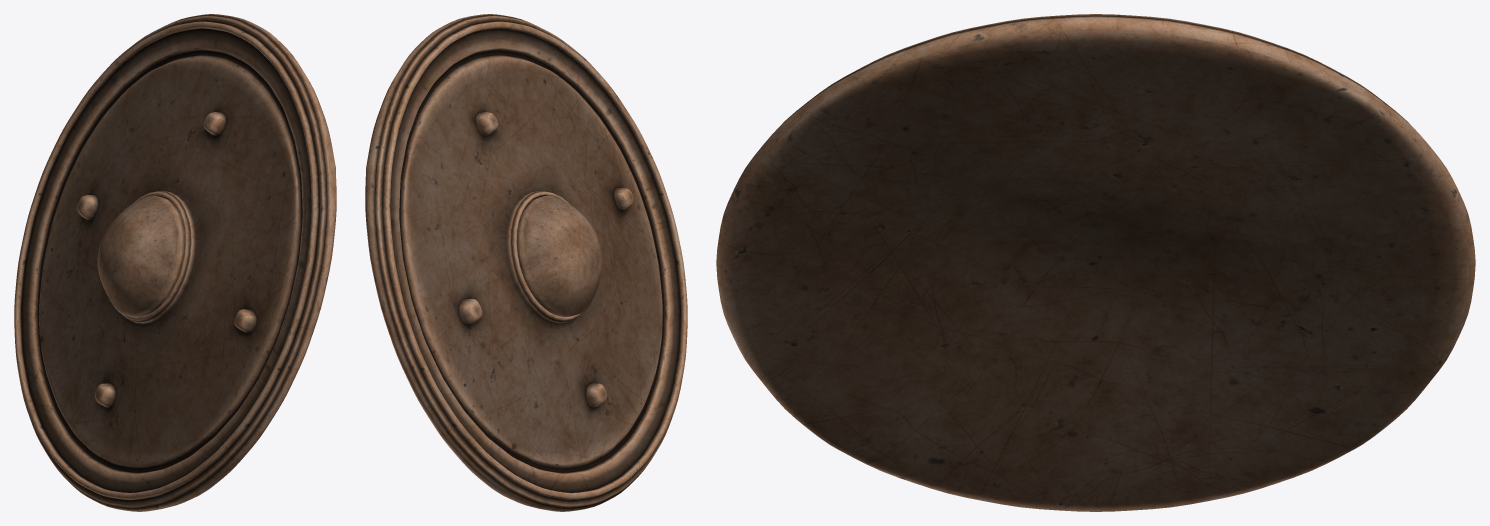
File: egyptian_shield.glb
3 views of the same model, side by side, from view 1: azimuth 30°, elevation 25°; view 2: azimuth 150°, elevation 25°; view 3: azimuth 270°, elevation 25° (orthographic). The views are drawn at different scales.
Parts seen in each view (by area): view 1: Circle_0; view 2: Circle_0; view 3: Circle_0.
Part boxes in pixels (left/top/right/bottom): Circle_0: left=14, top=14, right=336, bottom=511; Circle_0: left=365, top=14, right=687, bottom=511; Circle_0: left=716, top=14, right=1475, bottom=511.
Bounding box in the file's own units: 0.8904 × 1.81 × 1.99.
3 materials, 3 textured.
